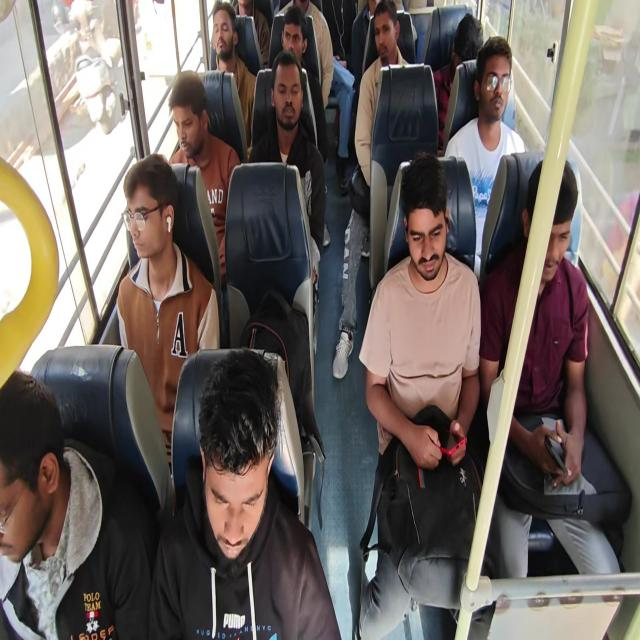person: (479, 156, 631, 580), (357, 151, 482, 638), (148, 346, 342, 639), (0, 368, 152, 639), (116, 152, 220, 474), (332, 0, 411, 379), (443, 35, 528, 278), (248, 50, 326, 292), (167, 70, 241, 288), (276, 0, 354, 195), (208, 1, 257, 148), (432, 12, 483, 152), (277, 0, 334, 109), (350, 0, 380, 86), (236, 0, 271, 68)
